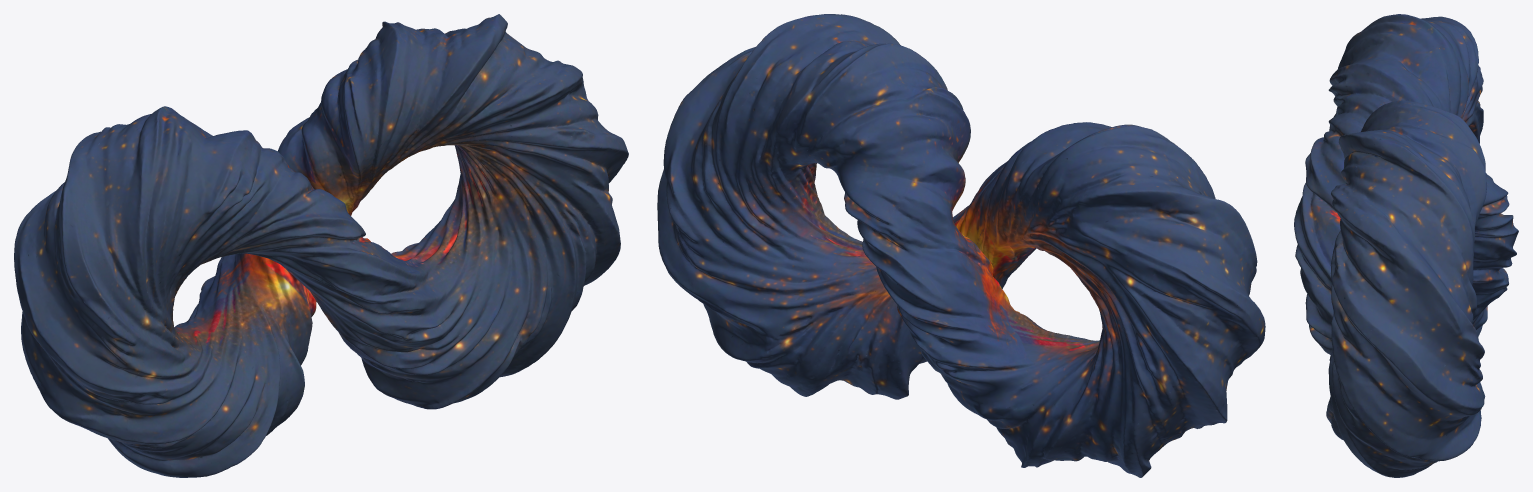
The model's file is Meshy_AI_AtAA_Invoker_to_infi_1115232554_texture.glb.
3 views of the same model, side by side, from view 1: azimuth 30°, elevation 25°; view 2: azimuth 150°, elevation 25°; view 3: azimuth 270°, elevation 25° (orthographic). The views are drawn at different scales.
Bounding box in the file's own units: 1.9 × 1.15 × 0.6797.
Materials: 1 (1 with a texture image).
